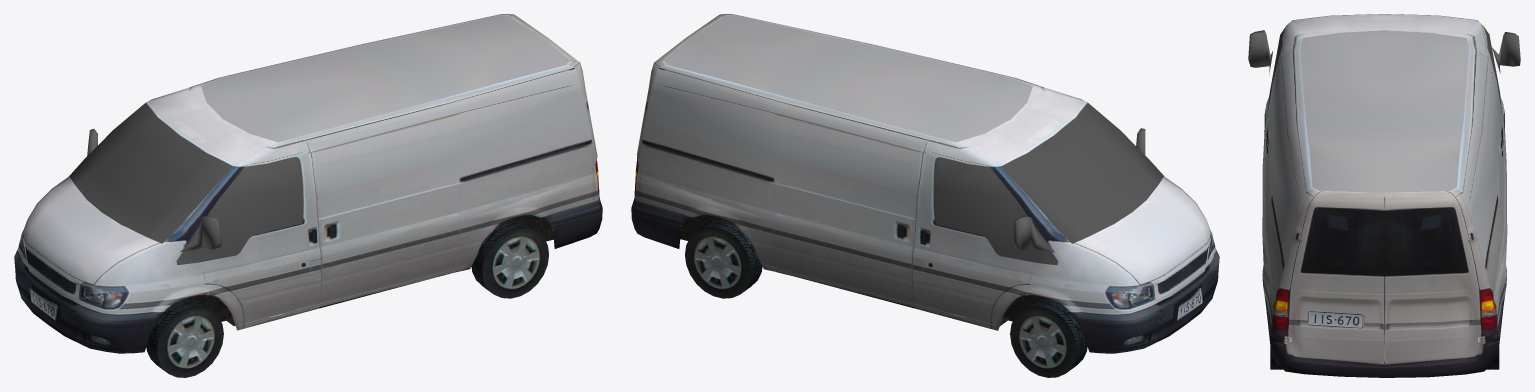
File: truck.gltf
3 renders of one model, left to right at view 1: azimuth 30°, elevation 25°; view 2: azimuth 150°, elevation 25°; view 3: azimuth 270°, elevation 25°, orthographic. The views are drawn at different scales.
Parts seen in each view (by area): view 1: 货车05; view 2: 货车05; view 3: 货车05.
Part boxes in pixels (<box>): 货车05: <box>14,14,602,377</box>; 货车05: <box>631,14,1219,377</box>; 货车05: <box>1248,14,1520,377</box>.
Bounding box in the file's own units: 4.76 × 1.76 × 2.02.
Materials: 15 (12 with a texture image).
